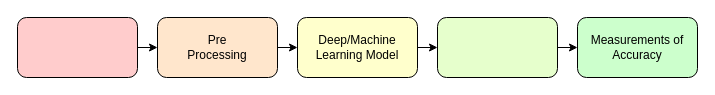
Some shapes in this 715 by 95 pixel diagram are drawn without their labels. Each missing label, with the centre of its shape:
Breast Tissue Slide Images: point 77,47
Predictions: point 497,47
